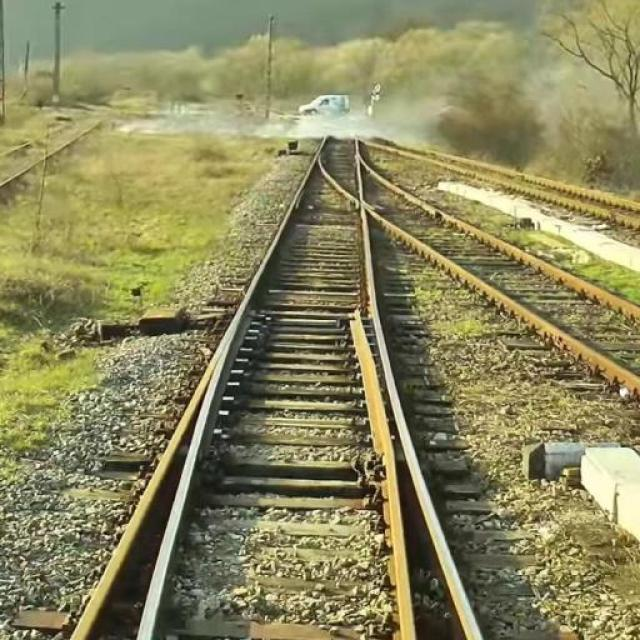vehicle: (299, 86, 360, 126)
